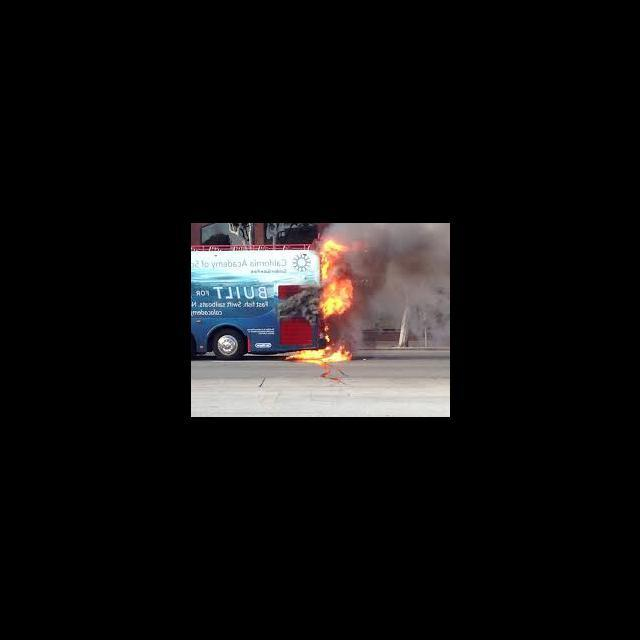Fire: (320, 240, 354, 321), (283, 344, 354, 364), (319, 323, 332, 342)
Smoke: (357, 224, 449, 327), (332, 223, 356, 239)
